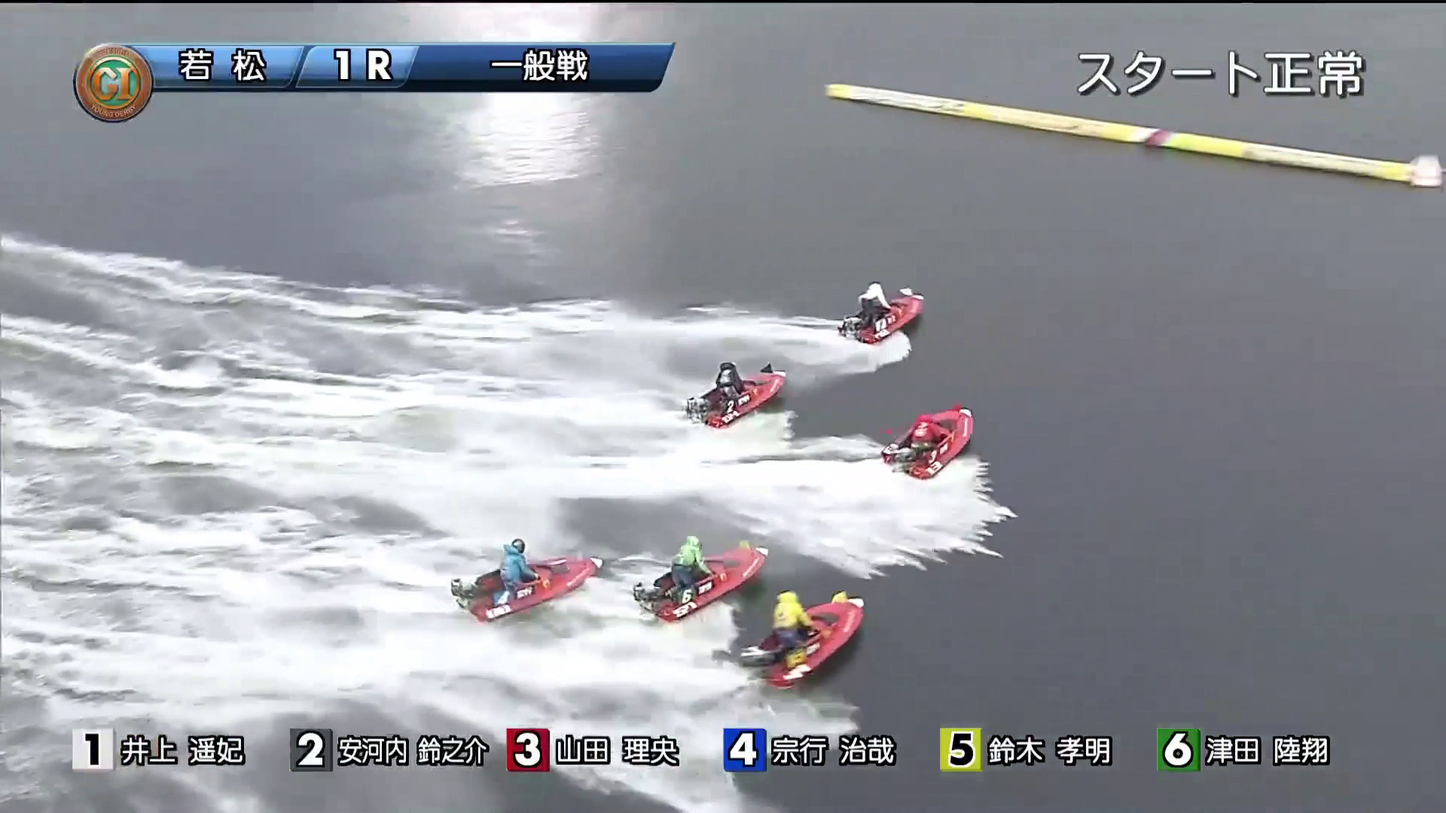１号艇: (840, 282, 977, 335)
２号艇: (672, 354, 801, 414)
３号艇: (882, 416, 1022, 463)
４号艇: (631, 537, 762, 602)
５号艇: (438, 547, 562, 602)
６号艇: (756, 598, 855, 655)
